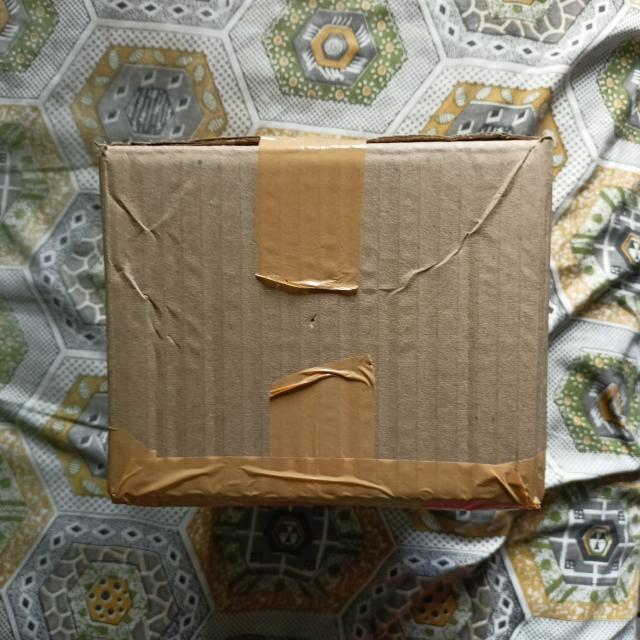box: (103, 140, 551, 503)
